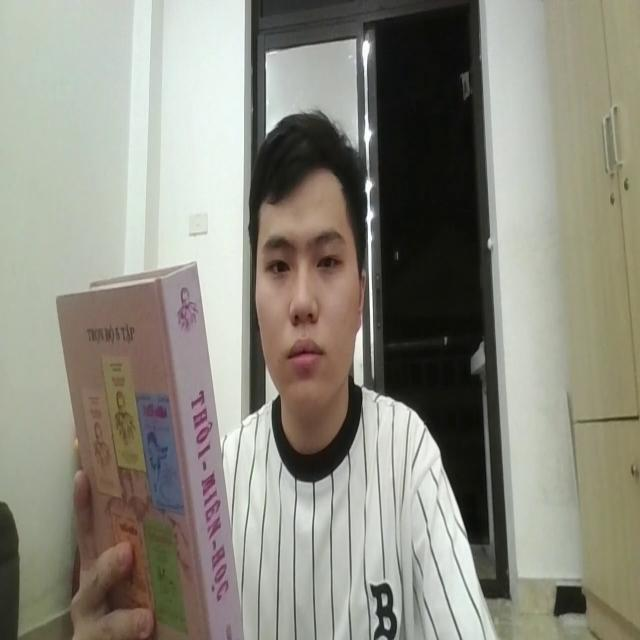book: (54, 268, 249, 640)
student: (221, 106, 504, 640)
